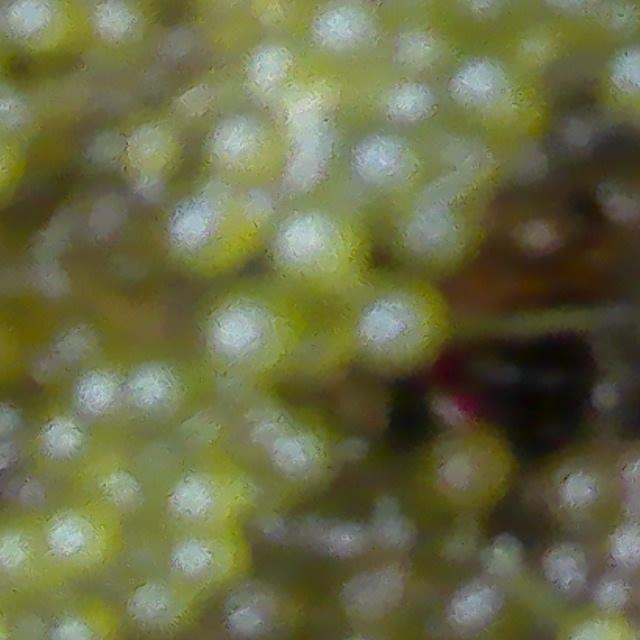SeaGrape: (265, 211, 367, 307), (386, 185, 488, 281), (348, 276, 448, 366), (163, 191, 259, 284), (444, 46, 533, 140), (122, 347, 207, 431), (202, 295, 284, 377), (350, 125, 431, 207), (300, 0, 386, 77), (349, 63, 437, 138), (391, 6, 469, 85), (208, 105, 278, 192), (165, 463, 245, 533), (125, 571, 206, 640), (547, 456, 614, 528), (50, 505, 116, 576), (48, 585, 131, 640), (0, 519, 54, 602), (2, 0, 79, 54), (34, 413, 92, 472)
